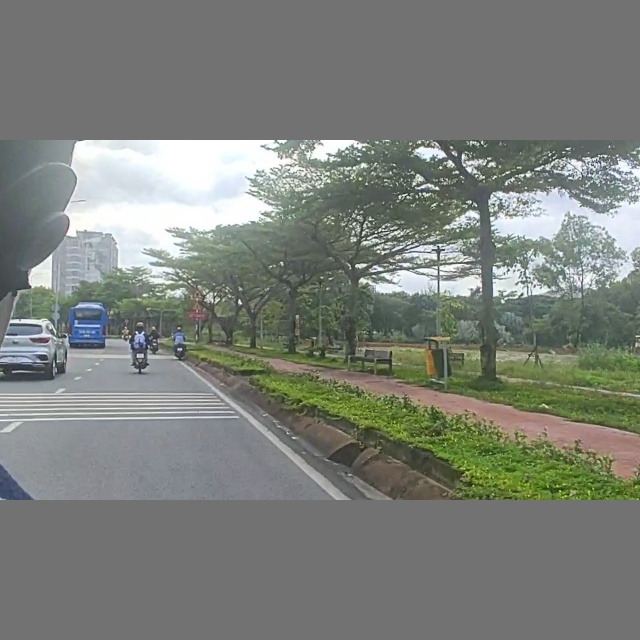W.224: (193, 302, 203, 311)
